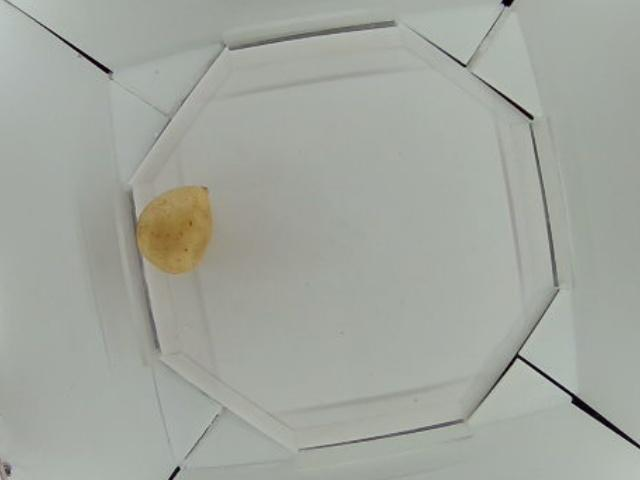Potato: (132, 181, 211, 272)
